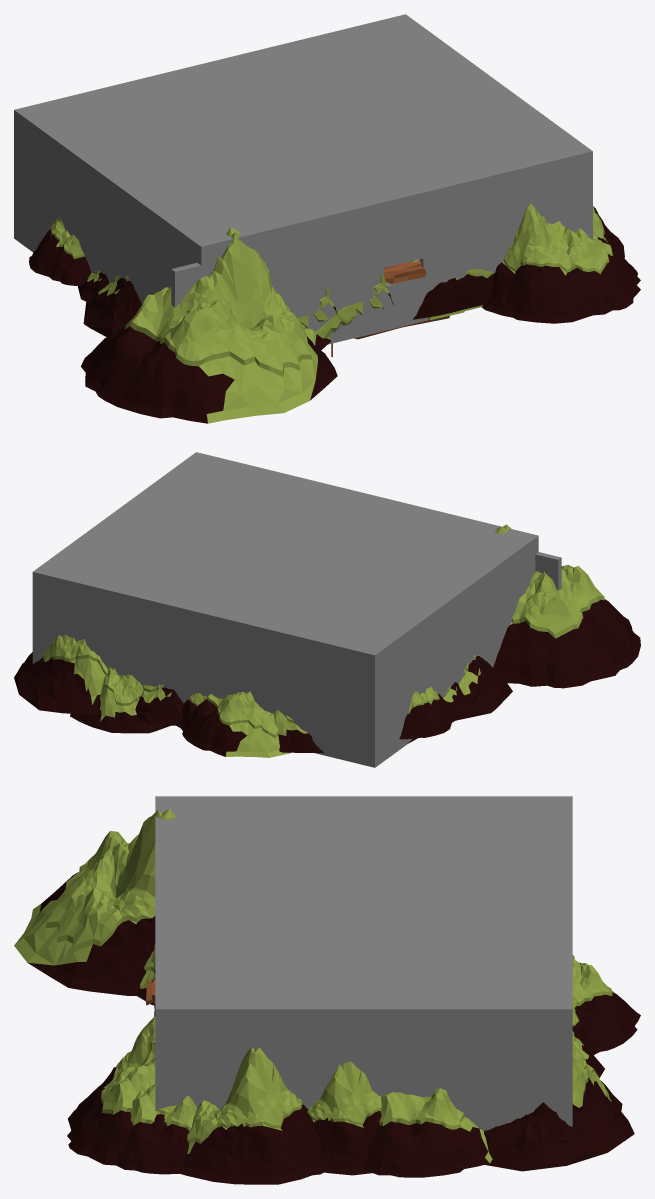
The model's file is modelo.glb.
The picture shows the model from 3 angles, top to bottom: view 1: azimuth 30°, elevation 25°; view 2: azimuth 150°, elevation 25°; view 3: azimuth 270°, elevation 25°; orthographic projection. The views are drawn at different scales.
Parts seen in each view (by area): view 1: Cubo, PP_Forest_Mountain_Moss_01.001, PP_Forest_Mountain_Moss_01_4.003, PP_Forest_Mountain_Moss_01_2, PP_Forest_Mountain_Moss_01_4.001, PP_Forest_Mountain_Moss_02_5, PP_Forest_Mountain_Moss_01_4.002, Cubo.001, PP_Forest_Mountain_Moss_01_4, PP_Forest_Mountain_Moss_02_9; view 2: Cubo, PP_Forest_Mountain_Moss_01.001, PP_Forest_Mountain_Moss_02_2, PP_Forest_Mountain_Moss_01_1, PP_Forest_Mountain_Moss_02_1, PP_Forest_Mountain_Moss_02_5, PP_Forest_Mountain_Moss_01_2, PP_Forest_Mountain_Moss_02_3, PP_Forest_Mountain_Moss_02_10, PP_Forest_Mountain_Moss_02_9; view 3: Cubo, PP_Forest_Mountain_Moss_01.001, PP_Forest_Mountain_Moss_01_6, PP_Forest_Mountain_Moss_02_2, PP_Forest_Mountain_Moss_01_7, PP_Forest_Mountain_Moss_01_4.003, PP_Forest_Mountain_Moss_01_5, PP_Forest_Mountain_Moss_01_4, PP_Forest_Mountain_Moss_01_1.
Boxes of the visible parts, box(x1,y1,x2,y2) form: Cubo: box(14, 14, 592, 344); PP_Forest_Mountain_Moss_01.001: box(81, 227, 337, 423); PP_Forest_Mountain_Moss_01_4.003: box(482, 203, 640, 323); PP_Forest_Mountain_Moss_01_2: box(29, 218, 91, 285); PP_Forest_Mountain_Moss_01_4.001: box(413, 268, 494, 319); PP_Forest_Mountain_Moss_02_5: box(83, 274, 141, 337); PP_Forest_Mountain_Moss_01_4.002: box(315, 274, 393, 339); Cubo.001: box(354, 261, 449, 339); PP_Forest_Mountain_Moss_01_4: box(576, 228, 640, 284); PP_Forest_Mountain_Moss_02_9: box(77, 270, 109, 303); Cubo: box(32, 452, 561, 767); PP_Forest_Mountain_Moss_01.001: box(493, 524, 640, 688); PP_Forest_Mountain_Moss_02_2: box(14, 634, 108, 714); PP_Forest_Mountain_Moss_01_1: box(181, 691, 290, 757); PP_Forest_Mountain_Moss_02_1: box(70, 666, 170, 733); PP_Forest_Mountain_Moss_02_5: box(455, 655, 512, 720); PP_Forest_Mountain_Moss_01_2: box(399, 686, 458, 739); PP_Forest_Mountain_Moss_02_3: box(135, 684, 183, 725); PP_Forest_Mountain_Moss_02_10: box(273, 710, 323, 752); PP_Forest_Mountain_Moss_02_9: box(443, 682, 468, 713); Cubo: box(155, 796, 572, 1130); PP_Forest_Mountain_Moss_01.001: box(14, 809, 175, 995); PP_Forest_Mountain_Moss_01_6: box(178, 1047, 323, 1184); PP_Forest_Mountain_Moss_02_2: box(483, 1047, 634, 1171); PP_Forest_Mountain_Moss_01_7: box(364, 1088, 492, 1177); PP_Forest_Mountain_Moss_01_4.003: box(67, 1016, 176, 1165); PP_Forest_Mountain_Moss_01_5: box(307, 1061, 381, 1175); PP_Forest_Mountain_Moss_01_4: box(116, 1084, 196, 1174); PP_Forest_Mountain_Moss_01_1: box(572, 958, 640, 1053).
Size of the model in its own units: 516 by 177 by 453.
